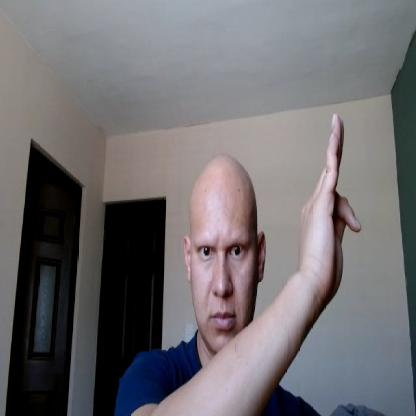F: (302, 112, 363, 304)
